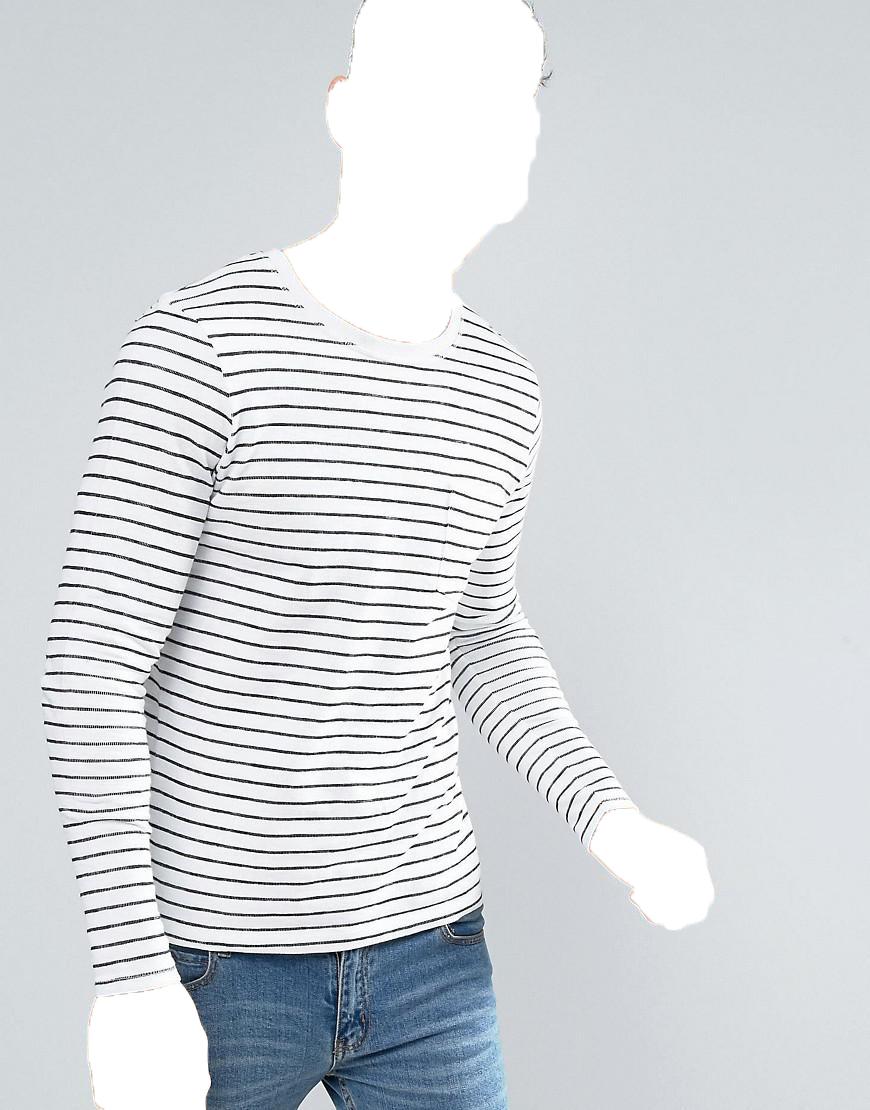teeshirt: (39, 247, 618, 973)
